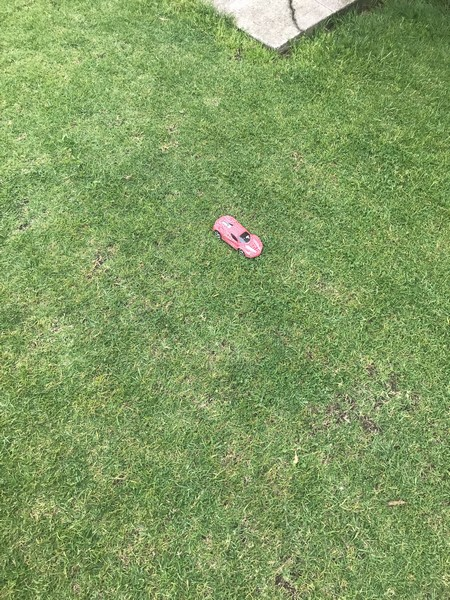RC: (212, 214, 266, 260)
